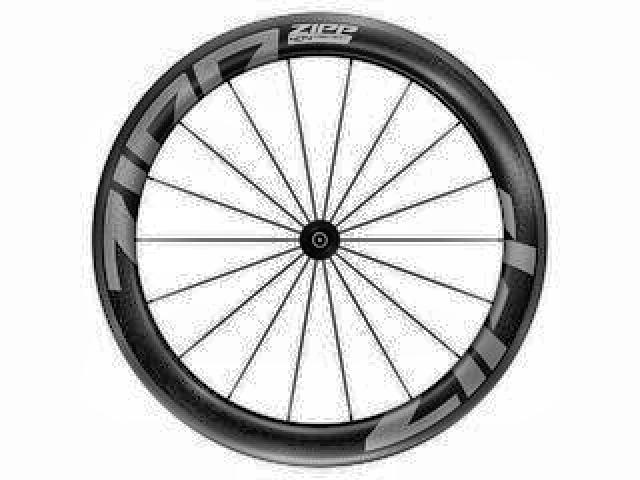wheel: (87, 9, 553, 473)
